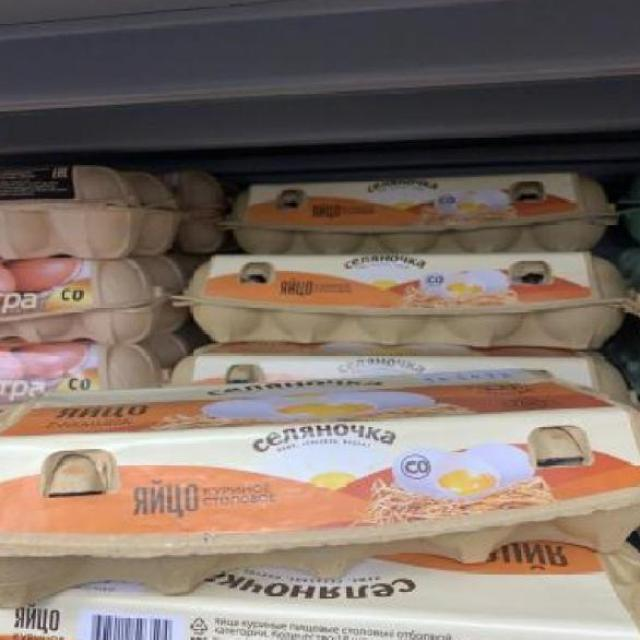Egg: (171, 250, 627, 352), (223, 171, 614, 256), (0, 155, 145, 260), (0, 251, 146, 345), (0, 342, 170, 406)
